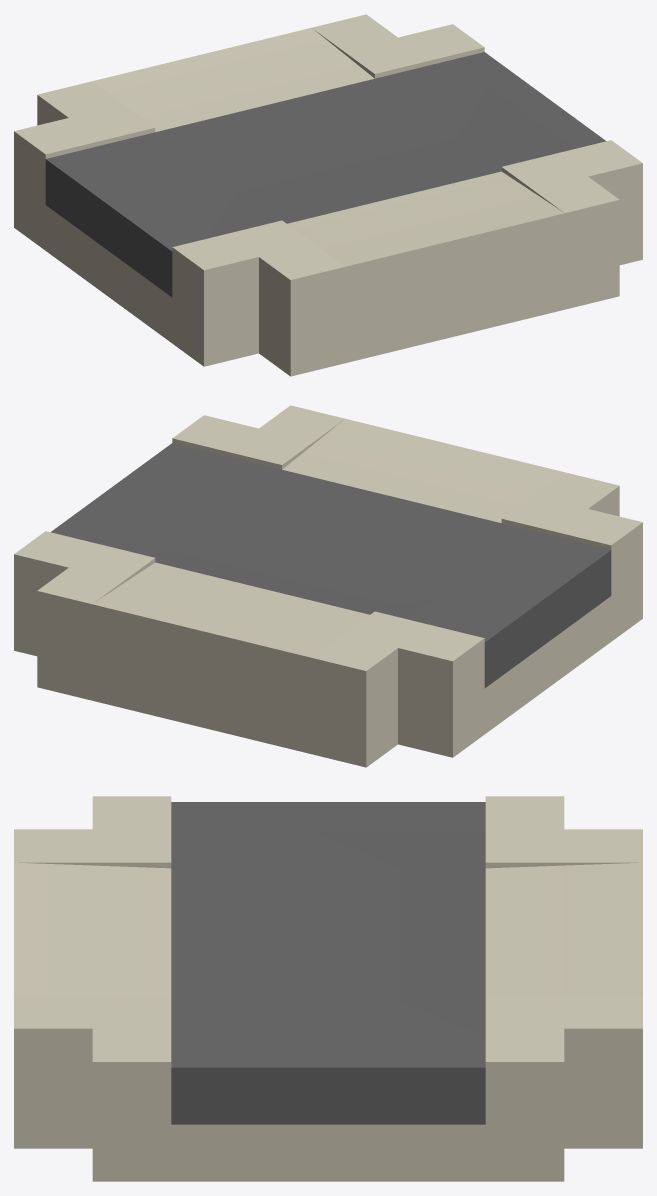
Rendered from tile173.fbx.
The picture shows the model from 3 angles, top to bottom: view 1: azimuth 30°, elevation 25°; view 2: azimuth 150°, elevation 25°; view 3: azimuth 270°, elevation 25°; orthographic projection. The views are drawn at different scales.
Parts seen in each view (by area): view 1: tile173; view 2: tile173; view 3: tile173.
Part boxes in pixels (x1,y1,x2,y2): tile173: (14, 14, 642, 376); tile173: (14, 405, 642, 767); tile173: (14, 796, 642, 1181).
Bounding box in the file's own units: 10 × 2.1 × 10.
